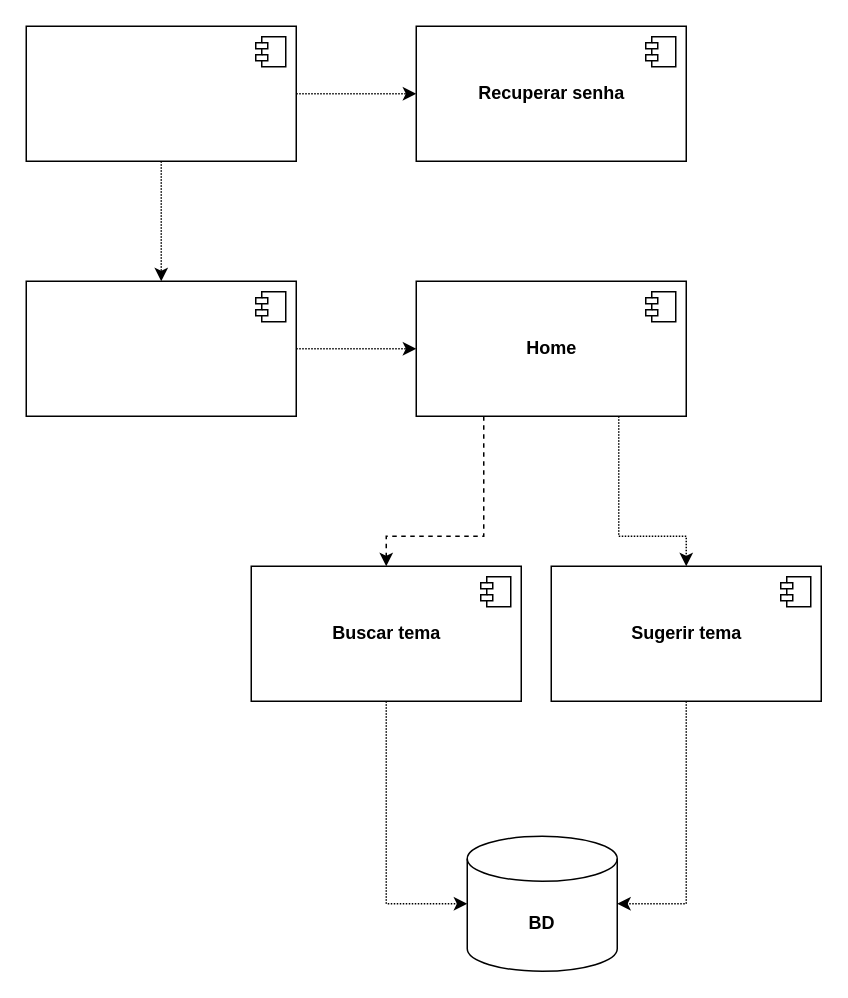
The diagram is 848 pixels wide and 998 high, and some of its shapes have lost their labels. The box of each missing label's shape, as (x1, y1, x2, y2) in pixels:
Cadastro do usuário: (25, 25, 296, 161)
Login: (25, 280, 296, 416)
